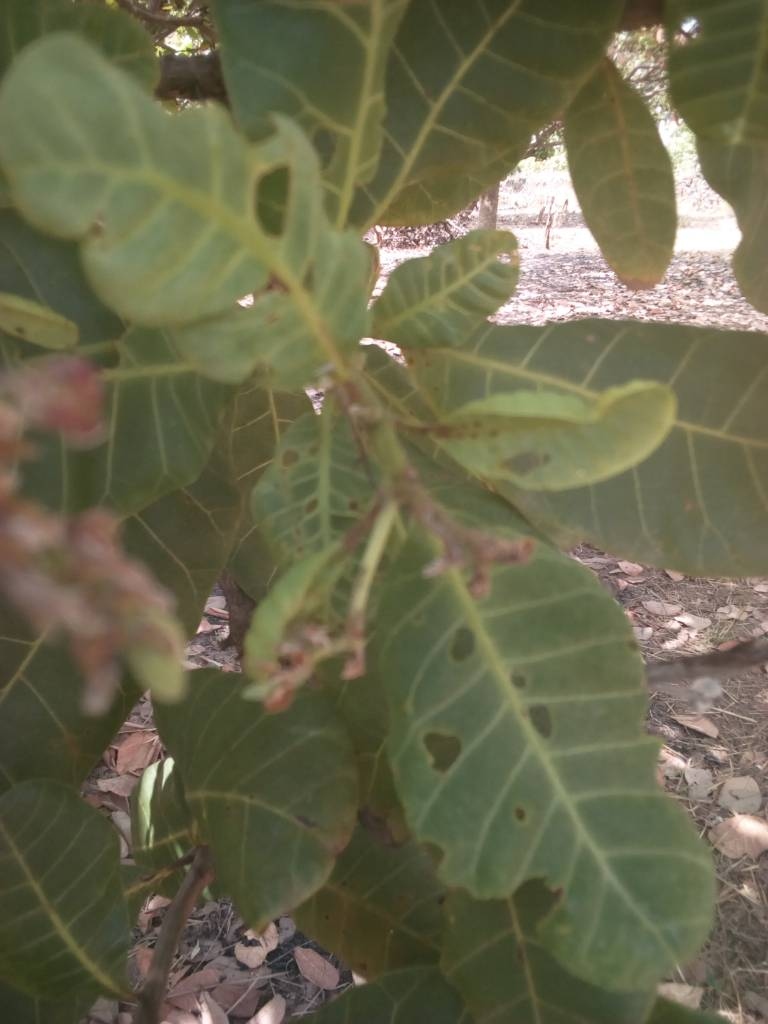Helopeltis anacardii: (1, 46, 374, 389), (249, 482, 535, 708), (429, 392, 682, 482)
